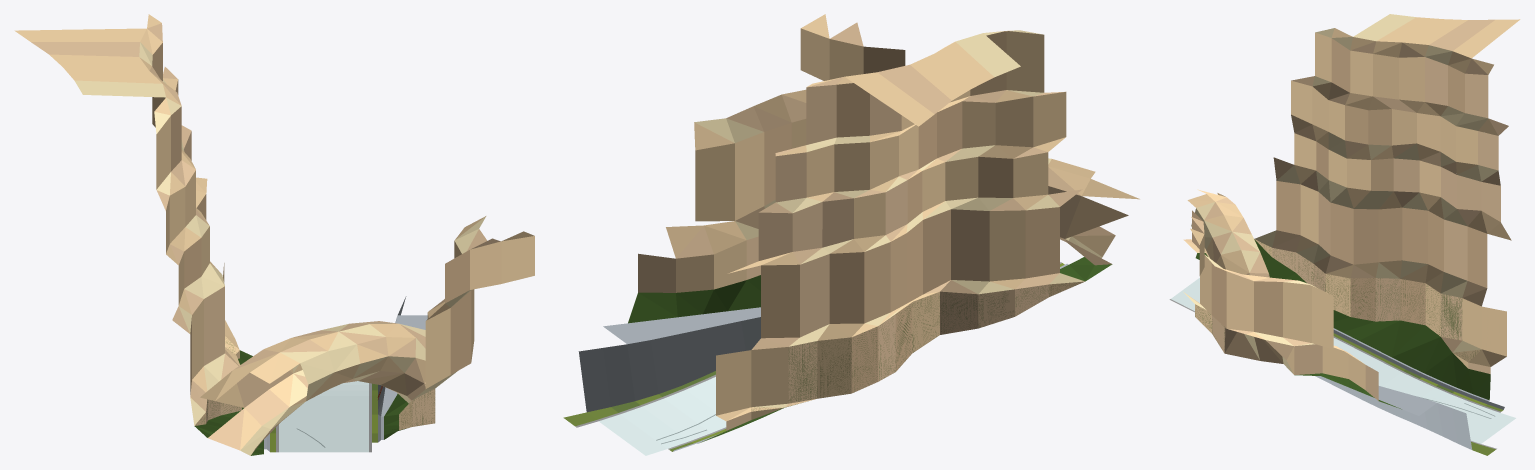
3 renders of one model, left to right at view 1: azimuth 30°, elevation 25°; view 2: azimuth 150°, elevation 25°; view 3: azimuth 270°, elevation 25°, orthographic. The views are drawn at different scales.
Visible parts, largest first — view 1: O19CA5; view 2: O19CA5; view 3: O19CA5.
Boxes of the visible parts, bbox=[...] form: O19CA5: bbox=[14, 14, 534, 455]; O19CA5: bbox=[563, 14, 1139, 455]; O19CA5: bbox=[1169, 14, 1520, 455].
Bounding box in the file's own units: 146 × 140 × 149.
